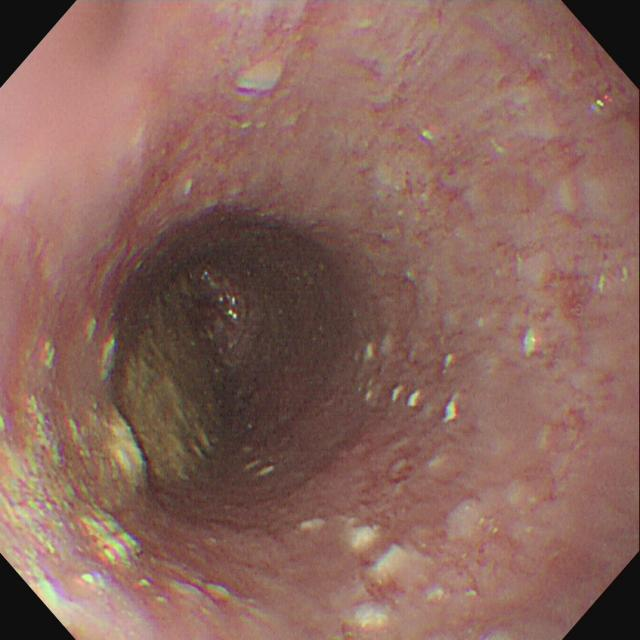B: (2, 307, 219, 564)
E: (144, 195, 347, 453)
J: (299, 517, 447, 636), (354, 344, 462, 423)
